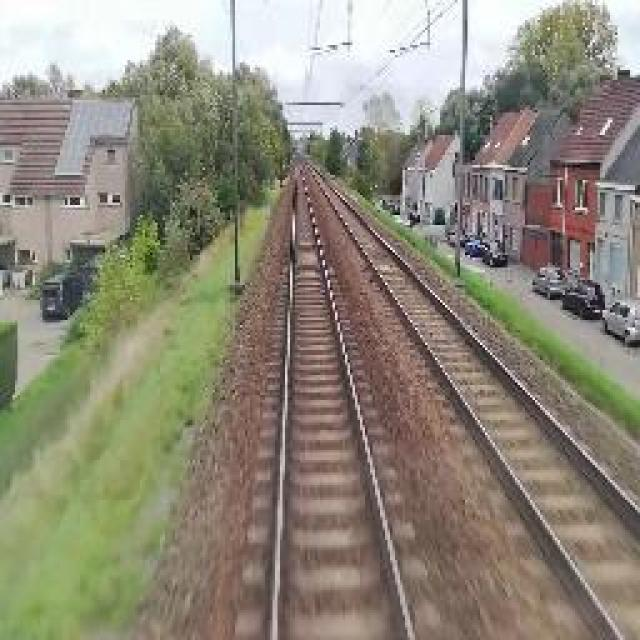rail: (232, 162, 456, 639)
